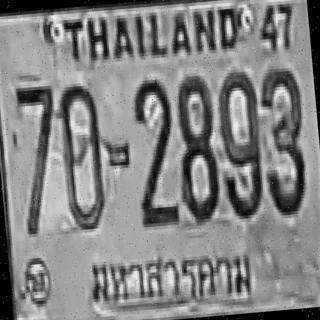N00: (56, 80, 108, 229)
N02: (128, 75, 179, 224)
N03: (256, 64, 308, 213)
N07: (14, 82, 64, 234)
N08: (172, 72, 220, 220)
N09: (214, 68, 265, 217)
P25: (81, 230, 266, 320)
